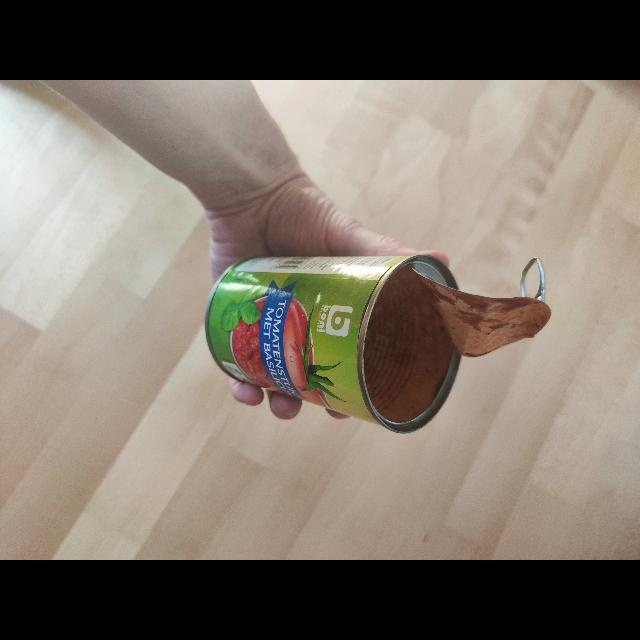Metal: (202, 253, 552, 437)
